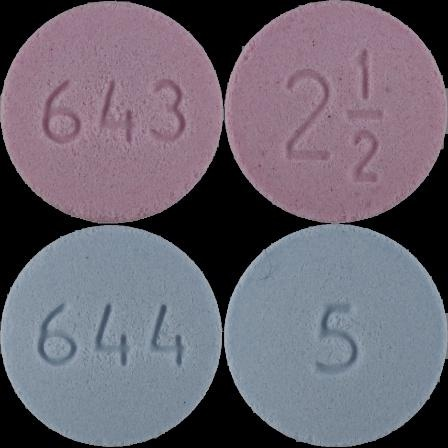65580-643: (0, 0, 224, 224)
